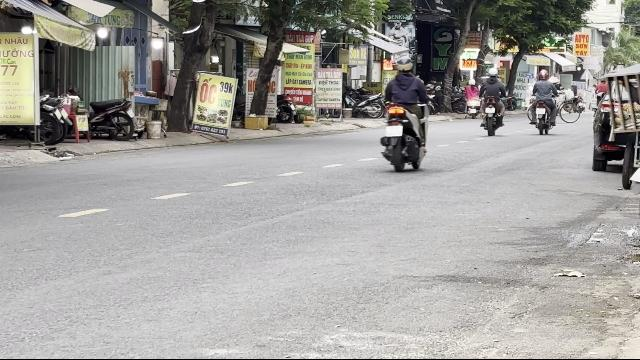helmet: (393, 56, 413, 74)
licenseplate: (386, 126, 402, 138)
motorcyclist: (380, 56, 430, 170)
